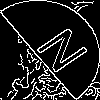N: (25, 25, 90, 82)
